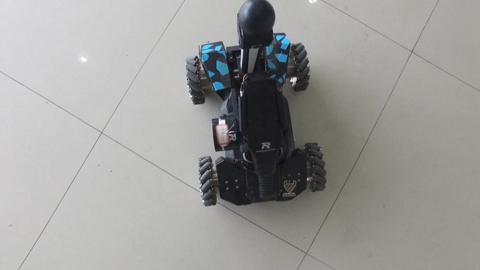chariot: (172, 5, 338, 219)
